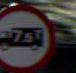Heavy Vehicles: (0, 2, 54, 71)
